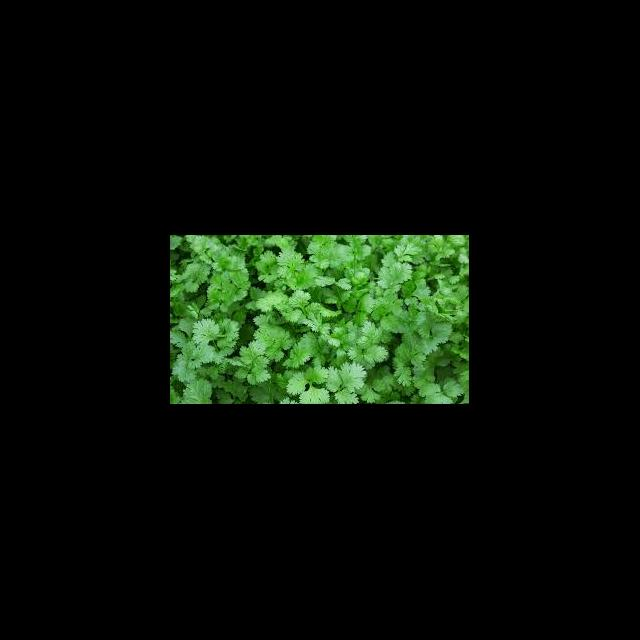cilantro: (234, 263, 427, 374)
